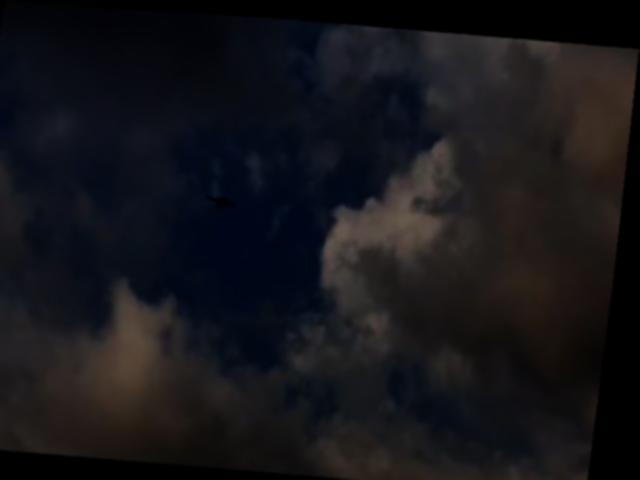uav: (204, 178, 248, 220)
